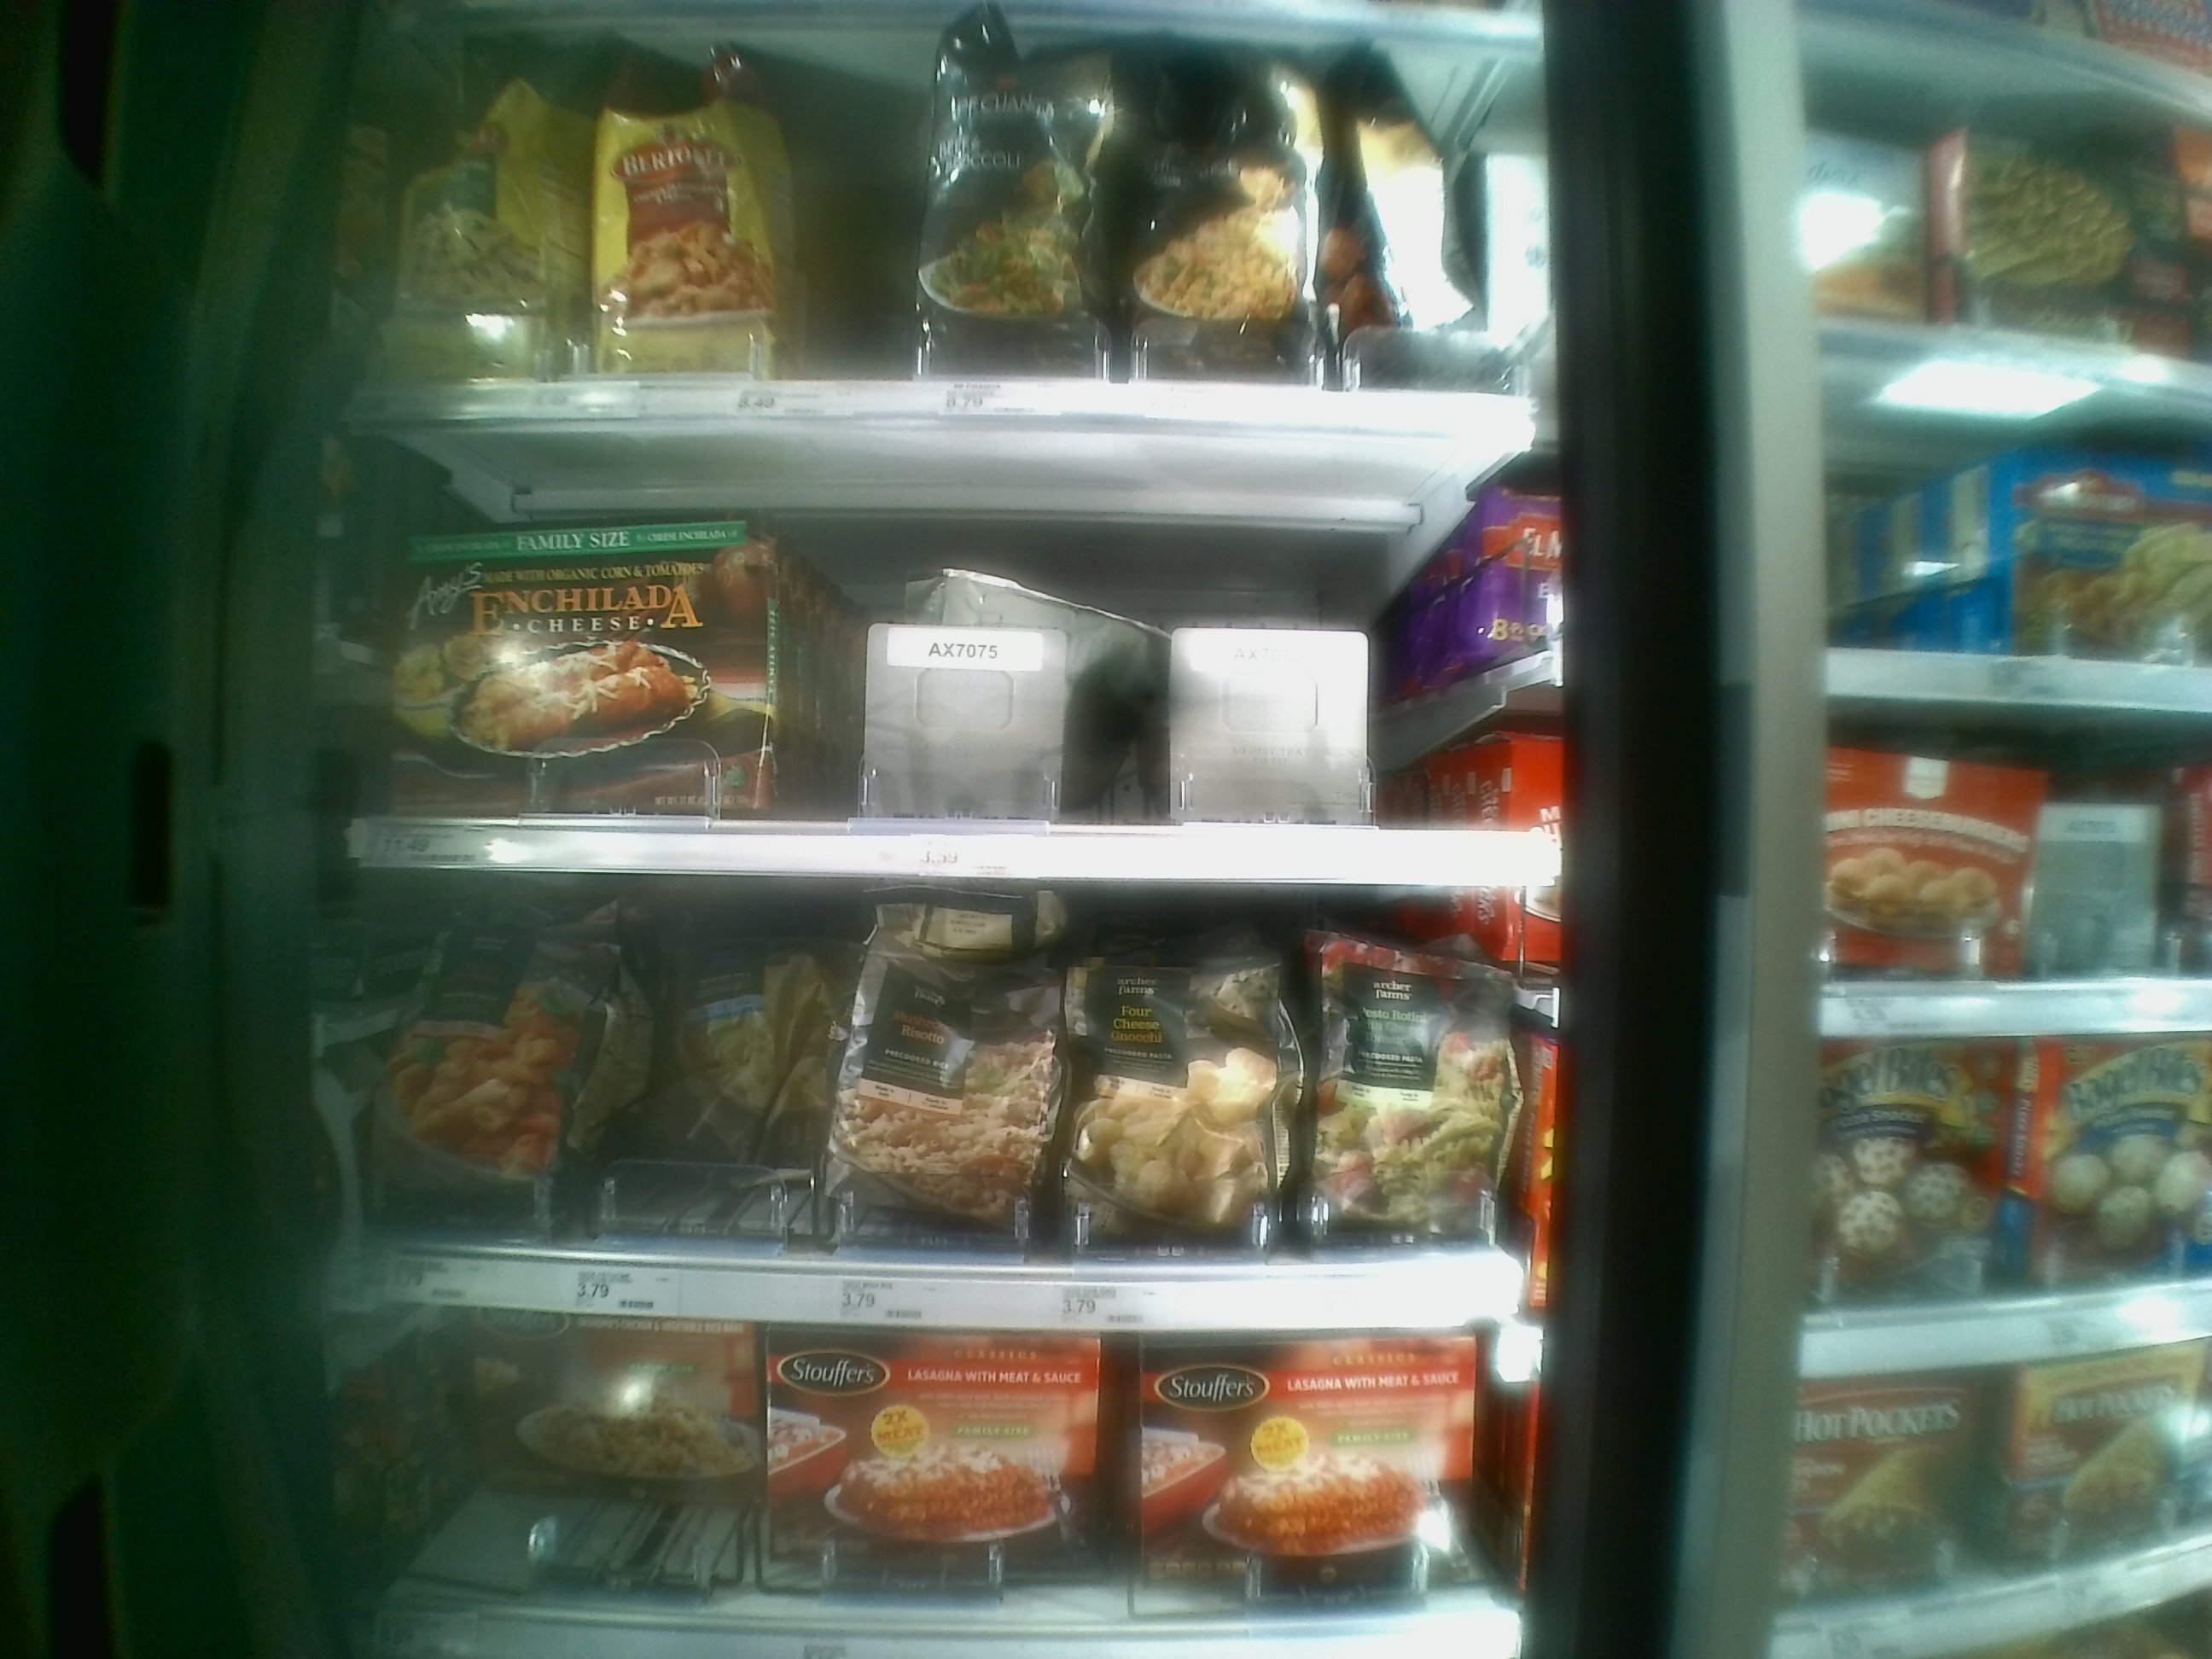shelf: (341, 430, 1517, 885), (340, 868, 1526, 1314)
